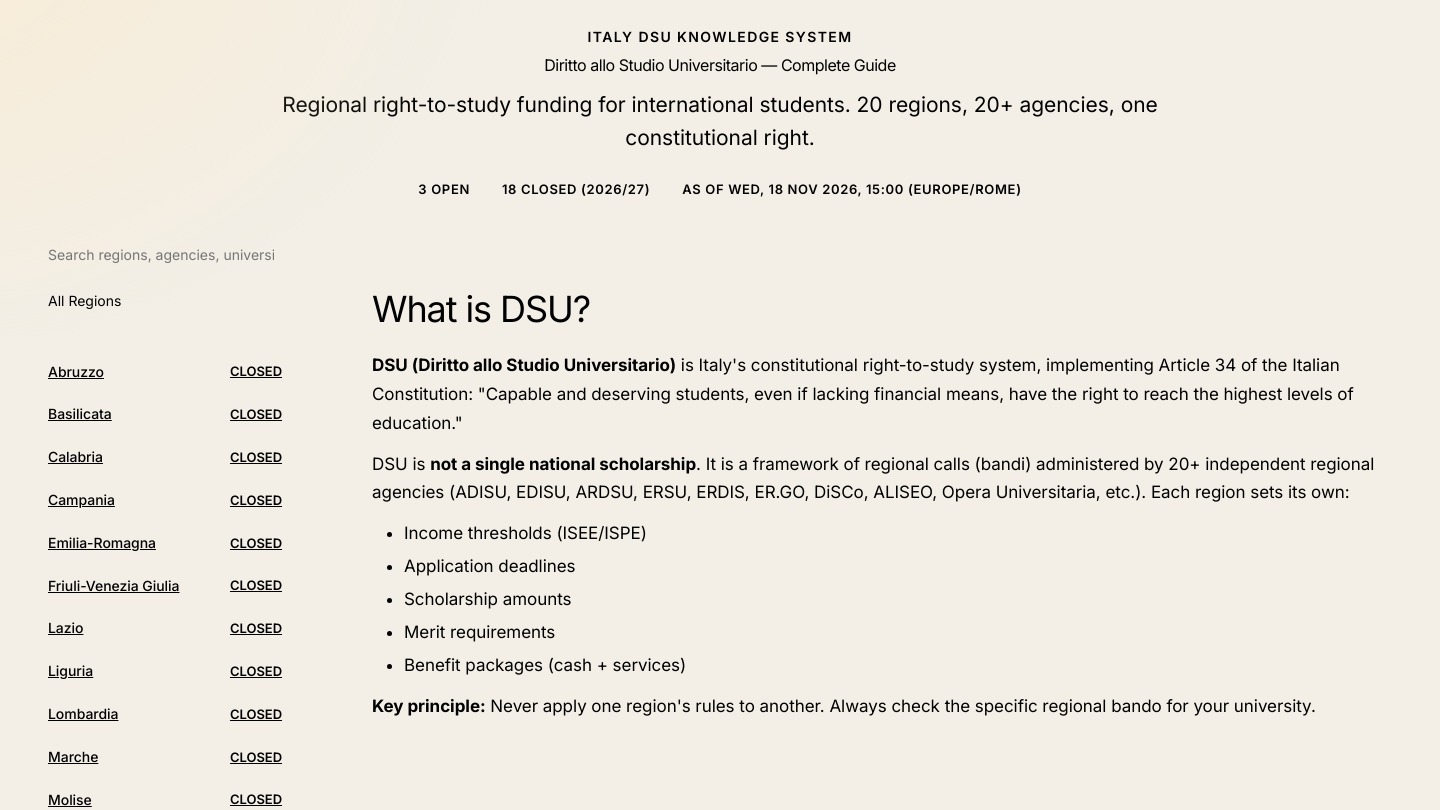
Test case: ItalyDsuGuidePage - search functionality › filters out closed regions when Open Only filter is selected
Select "Open Only" in the dropdown named "Filter by status": (168, 301) [36,282,300,320]
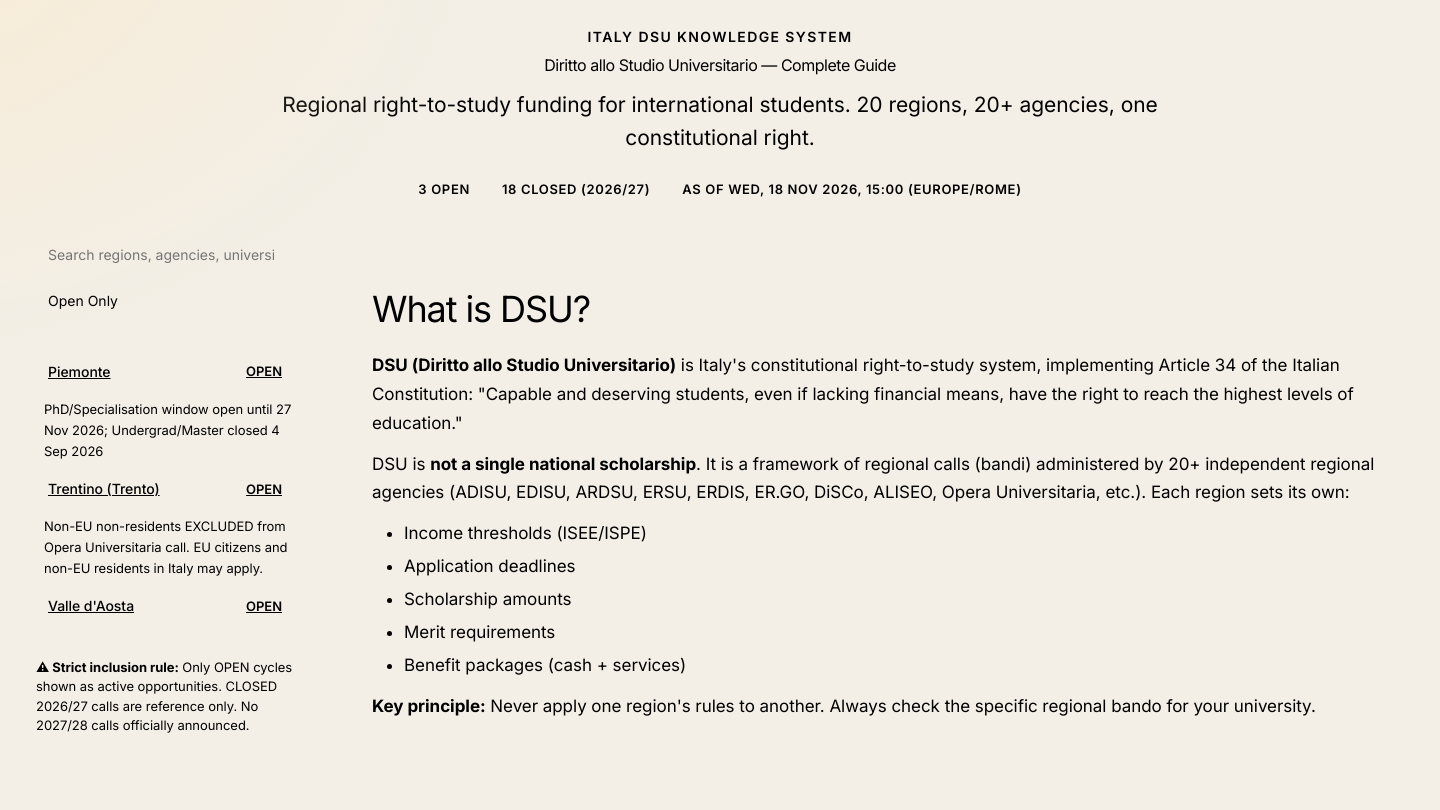
Expected: the 1st text with class "status-open" is shown, [246,363,282,379]
Now the 2nd text with class "status-open" is shown, box [246,480,282,496]
Now the 3rd text with class "status-open" is shown, box [246,598,282,614]
